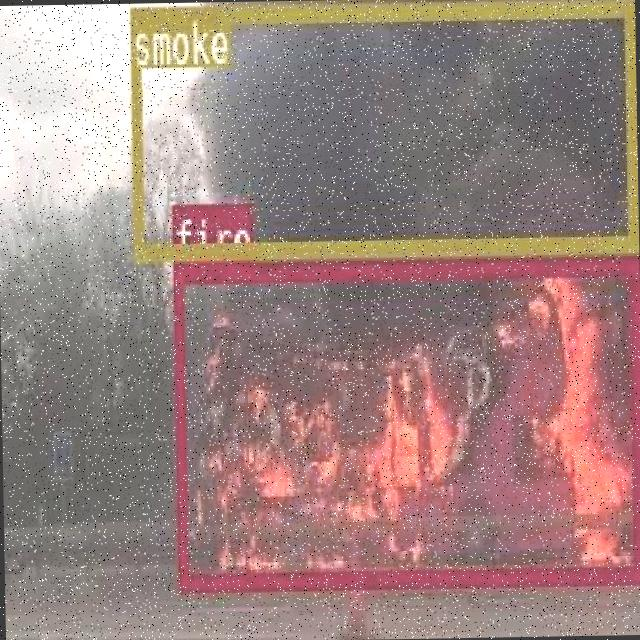smoke: (127, 0, 634, 255)
